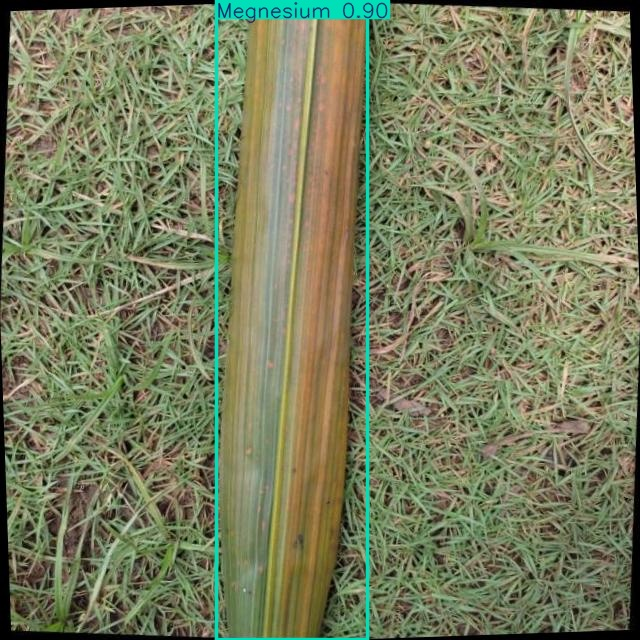Megnesium: (216, 1, 368, 640)
